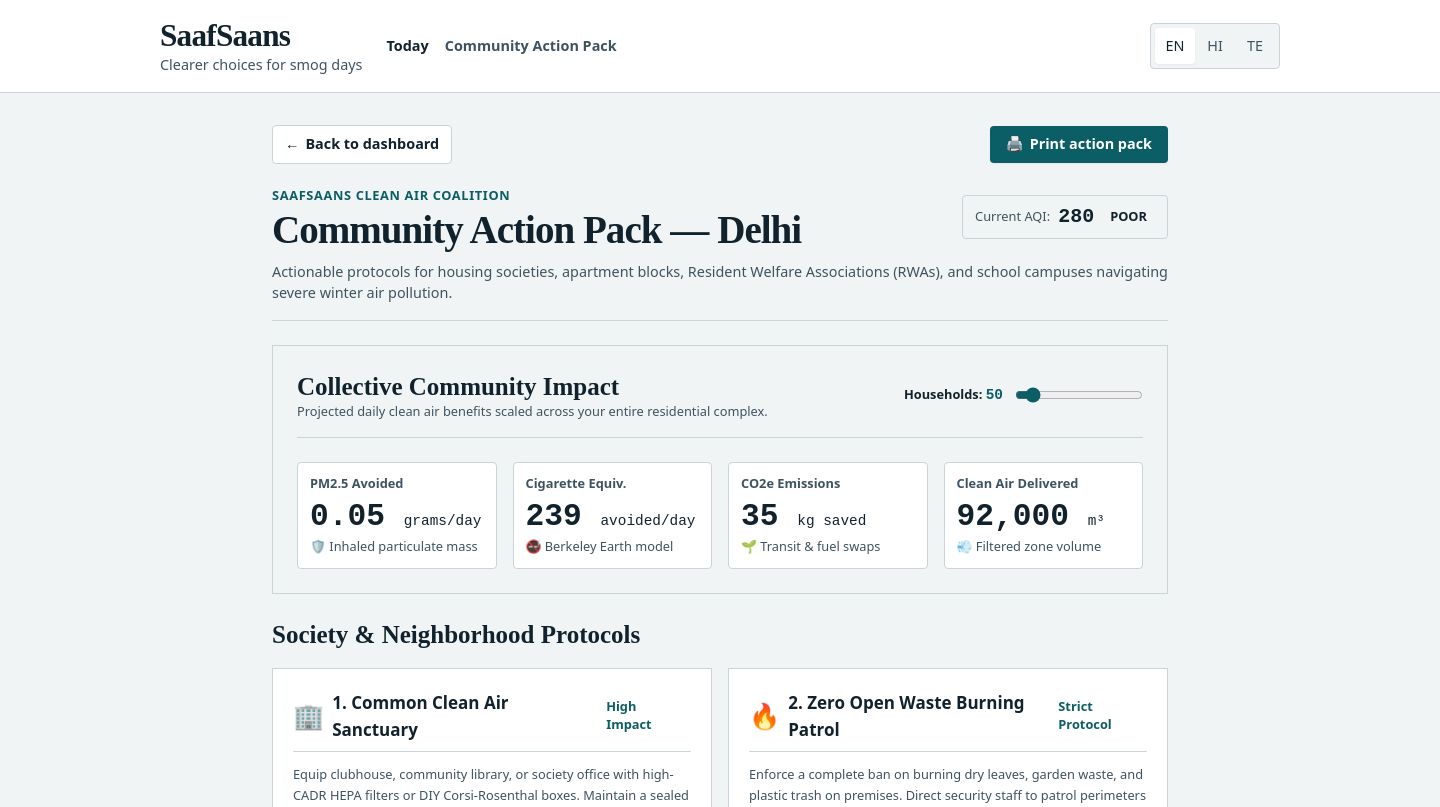
Scenario: CommunityPage › updates collective impact numbers when household slider changes
Set the slider labelled "Households: 50" to "100": (1044, 396) x1=1015 y1=392 x2=1143 y2=400
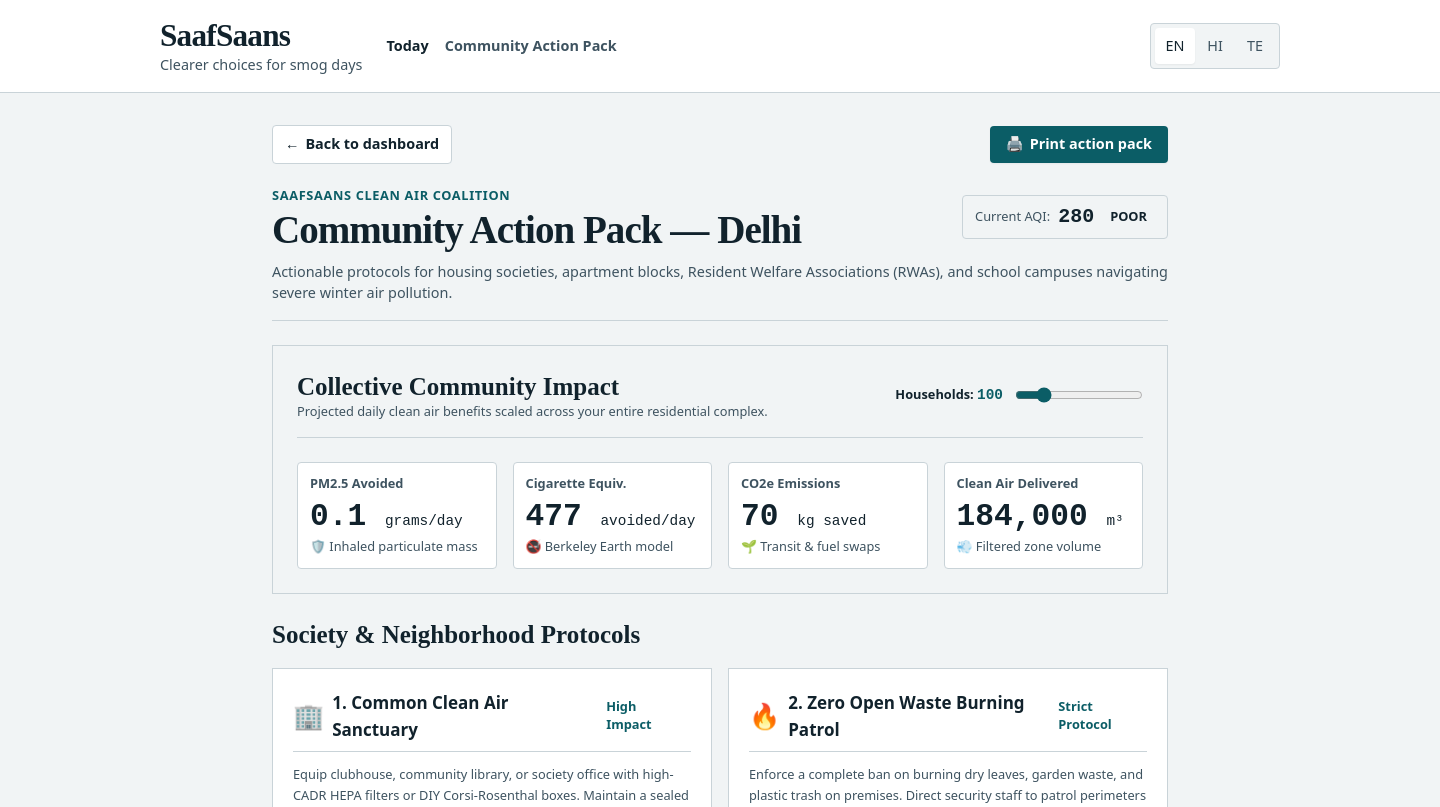
Result: the text "100" is shown at x1=977 y1=387 x2=1003 y2=403
